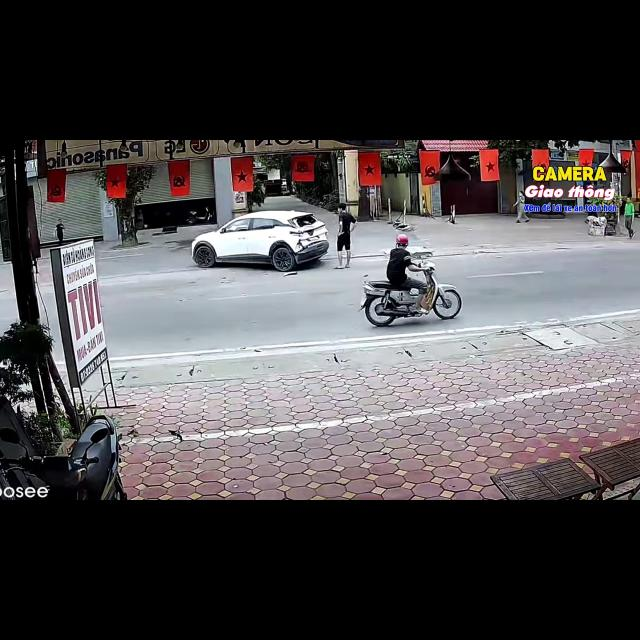car: (191, 211, 328, 271)
motorcycle: (0, 416, 126, 499), (360, 281, 427, 326), (187, 207, 213, 224)
